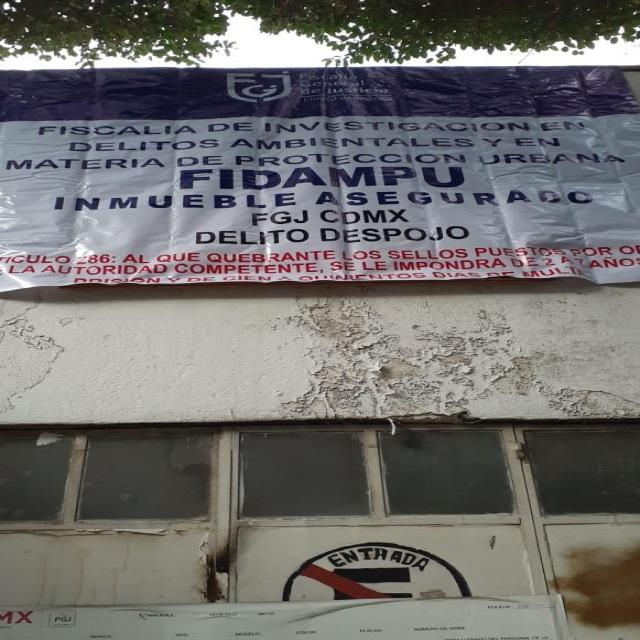stamps: (6, 66, 636, 286)
